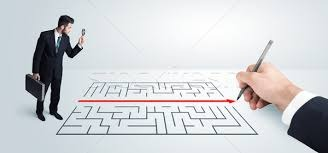maze: (93, 82, 209, 134), (210, 102, 234, 134), (71, 102, 92, 135)
